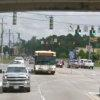Bus: (33, 46, 59, 75)
